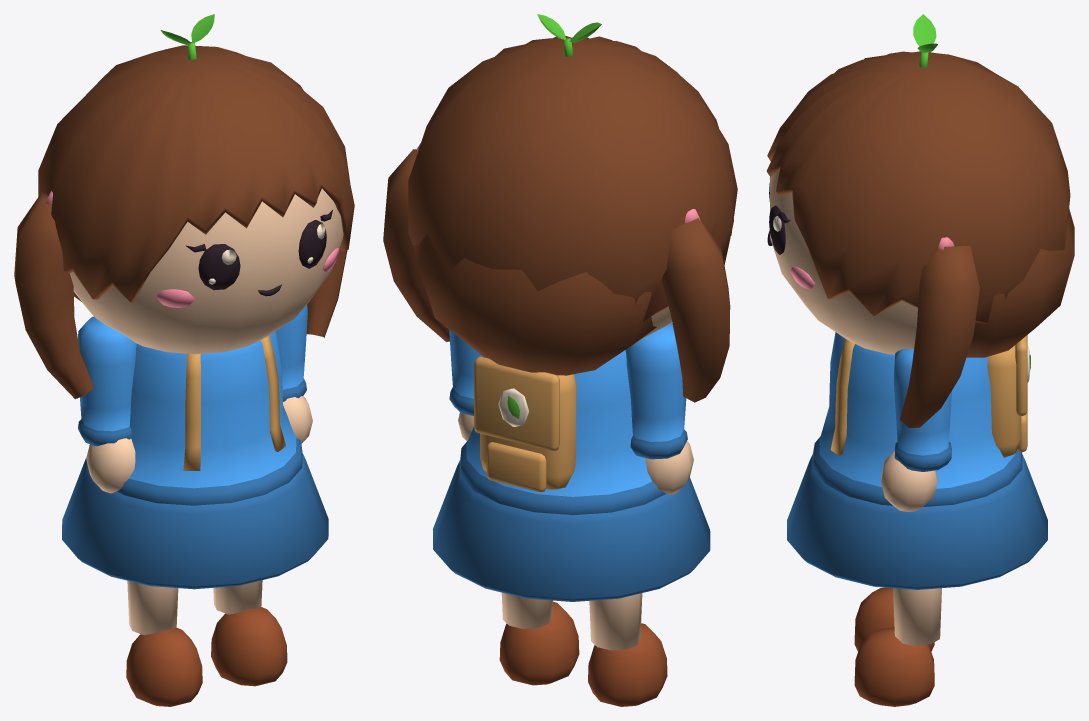
Rendered from hero-woman-teen.glb.
3 renders of one model, left to right at view 1: azimuth 30°, elevation 25°; view 2: azimuth 150°, elevation 25°; view 3: azimuth 270°, elevation 25°, orthographic. The views are drawn at different scales.
Parts seen in each view (by area): view 1: head, body, arm-left, leg-left, leg-right, arm-right, head-leaf; view 2: head, body, arm-left, leg-left, leg-right, arm-right, head-leaf; view 3: head, body, leg-right, arm-right, leg-left, head-leaf.
Part boxes in pixels (left/top/right/bottom): head: left=14, top=45, right=354, bottom=399; body: left=62, top=331, right=328, bottom=589; arm-left: left=78, top=316, right=136, bottom=493; leg-left: left=126, top=580, right=202, bottom=706; leg-right: left=211, top=580, right=287, bottom=686; arm-right: left=276, top=304, right=312, bottom=443; head-leaf: left=160, top=14, right=214, bottom=59; head: left=383, top=35, right=737, bottom=402; body: left=433, top=350, right=710, bottom=601; arm-left: left=625, top=322, right=693, bottom=494; leg-left: left=588, top=593, right=667, bottom=706; leg-right: left=499, top=592, right=579, bottom=685; arm-right: left=449, top=329, right=482, bottom=440; head-leaf: left=537, top=14, right=601, bottom=56; head: left=766, top=51, right=1074, bottom=427; body: left=787, top=332, right=1047, bottom=589; leg-right: left=854, top=588, right=941, bottom=706; arm-right: left=881, top=349, right=951, bottom=511; leg-left: left=854, top=587, right=934, bottom=651; head-leaf: left=913, top=14, right=937, bottom=67.
Bounding box in the file's own units: 1.33 × 2.51 × 1.08.
